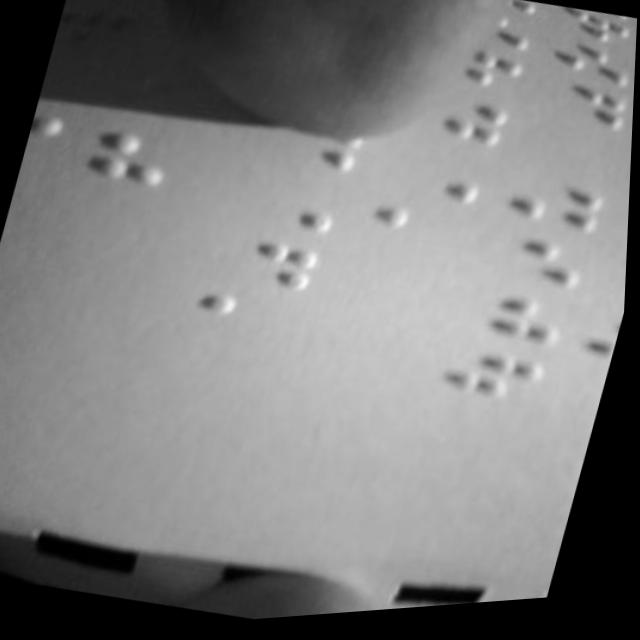braiile: (211, 223, 334, 311), (234, 168, 350, 250), (460, 287, 574, 365), (443, 345, 557, 422), (483, 237, 593, 310), (508, 181, 613, 251), (537, 79, 636, 150), (550, 42, 637, 102)
